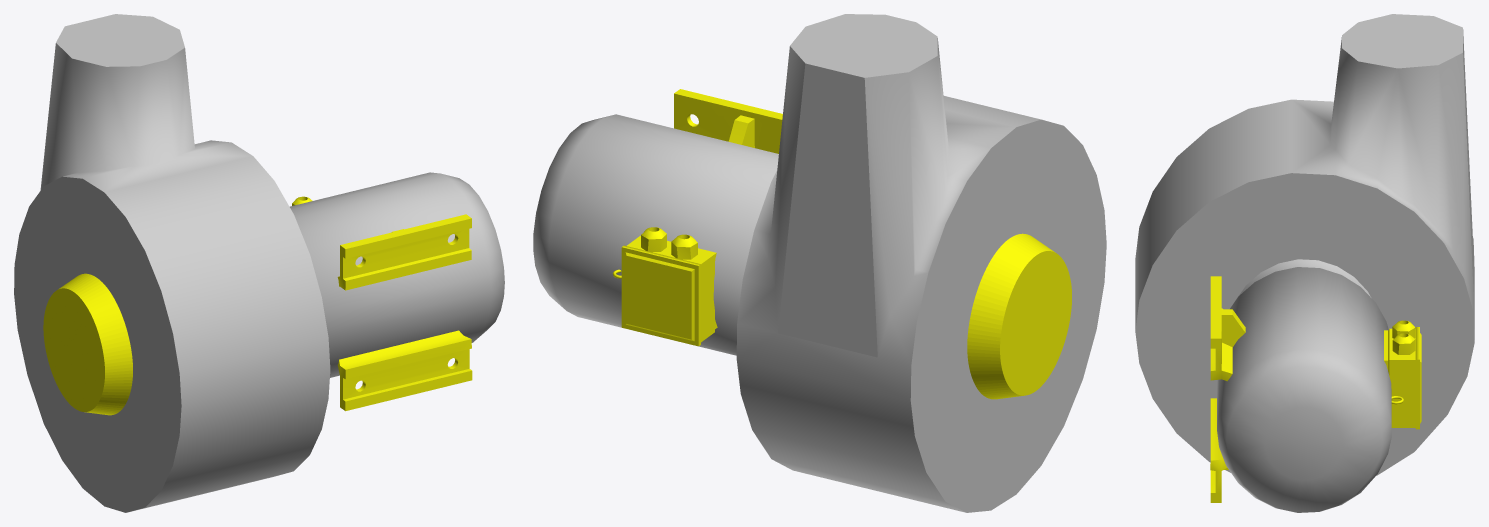
The model's file is sm_hana_bas_exhaust_fan.glb.
3 renders of one model, left to right at view 1: azimuth 30°, elevation 25°; view 2: azimuth 150°, elevation 25°; view 3: azimuth 270°, elevation 25°, orthographic. The views are drawn at different scales.
Parts seen in each view (by area): view 1: sm_color_common, sm_hana_bas_exhaust_fan; view 2: sm_color_common, sm_hana_bas_exhaust_fan; view 3: sm_color_common, sm_hana_bas_exhaust_fan.
Boxes of the visible parts, bbox=[...] form: sm_color_common: bbox=[14, 14, 504, 512]; sm_hana_bas_exhaust_fan: bbox=[43, 196, 472, 415]; sm_color_common: bbox=[533, 14, 1106, 512]; sm_hana_bas_exhaust_fan: bbox=[612, 89, 1071, 399]; sm_color_common: bbox=[1135, 14, 1474, 512]; sm_hana_bas_exhaust_fan: bbox=[1210, 276, 1421, 502].
Size of the model in its own units: 2.02 by 1.95 by 1.46.
Materials: 2 (1 with a texture image).
